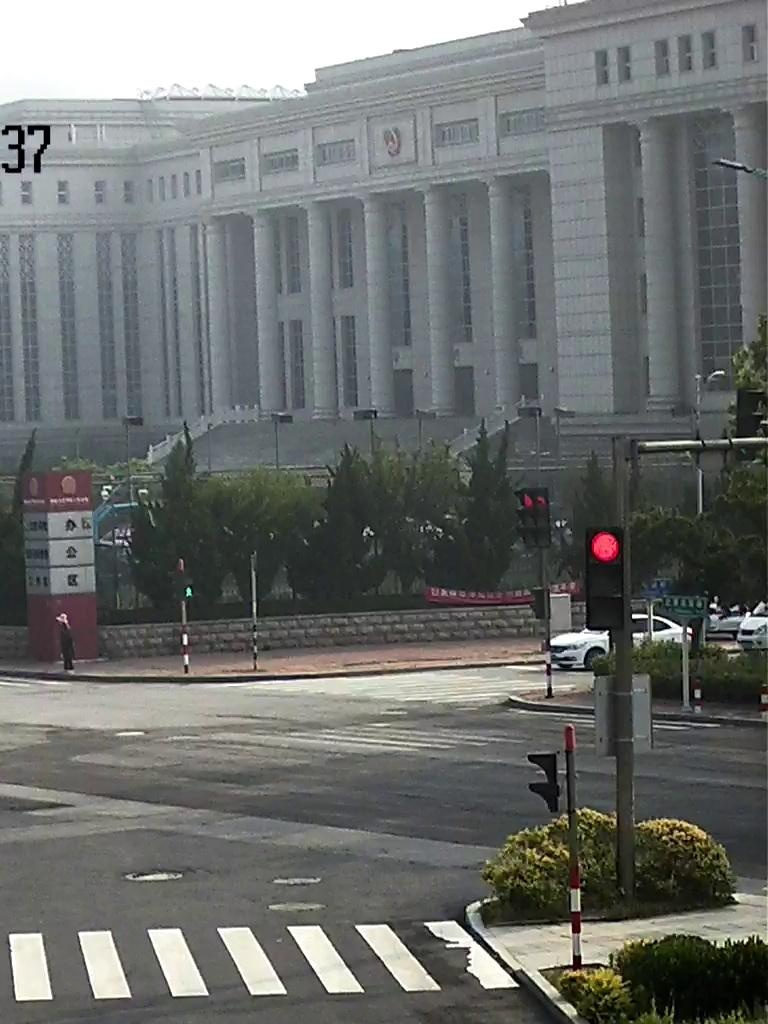greenpeople: (187, 585, 192, 600)
red: (583, 528, 629, 564), (518, 494, 537, 511)
